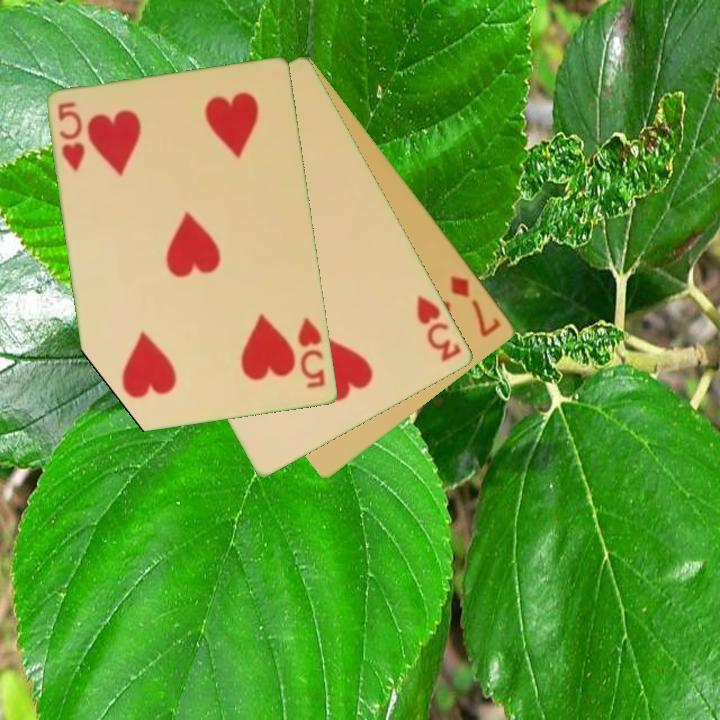3h: (413, 292, 465, 365)
5h: (295, 313, 329, 392), (54, 98, 88, 174)
7d: (447, 271, 505, 341)
